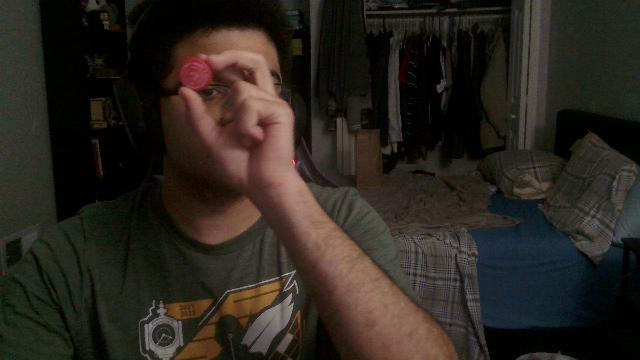cap: (178, 57, 212, 91)
